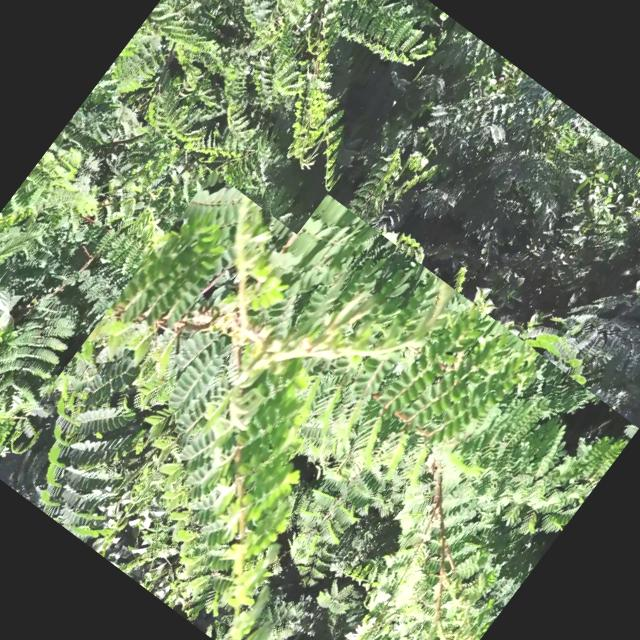Mysore-Thorn-Weed: (0, 131, 638, 640), (97, 0, 457, 235), (0, 90, 203, 466)
